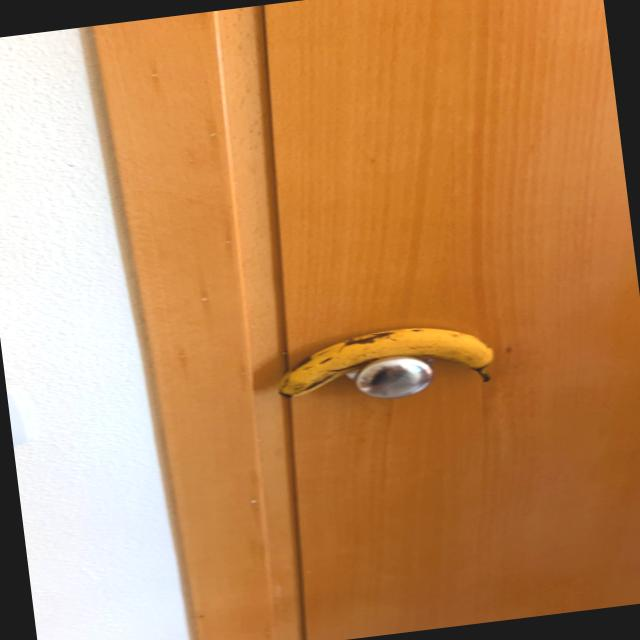bananas: (279, 328, 493, 396)
